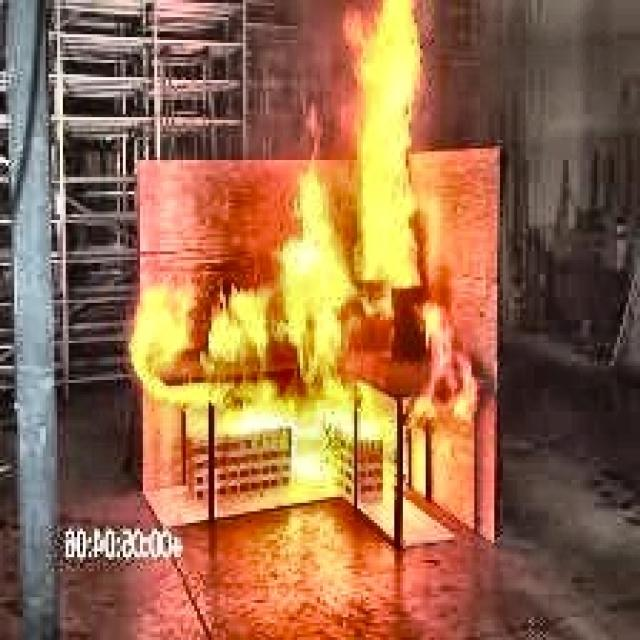fire: (127, 0, 482, 477)
